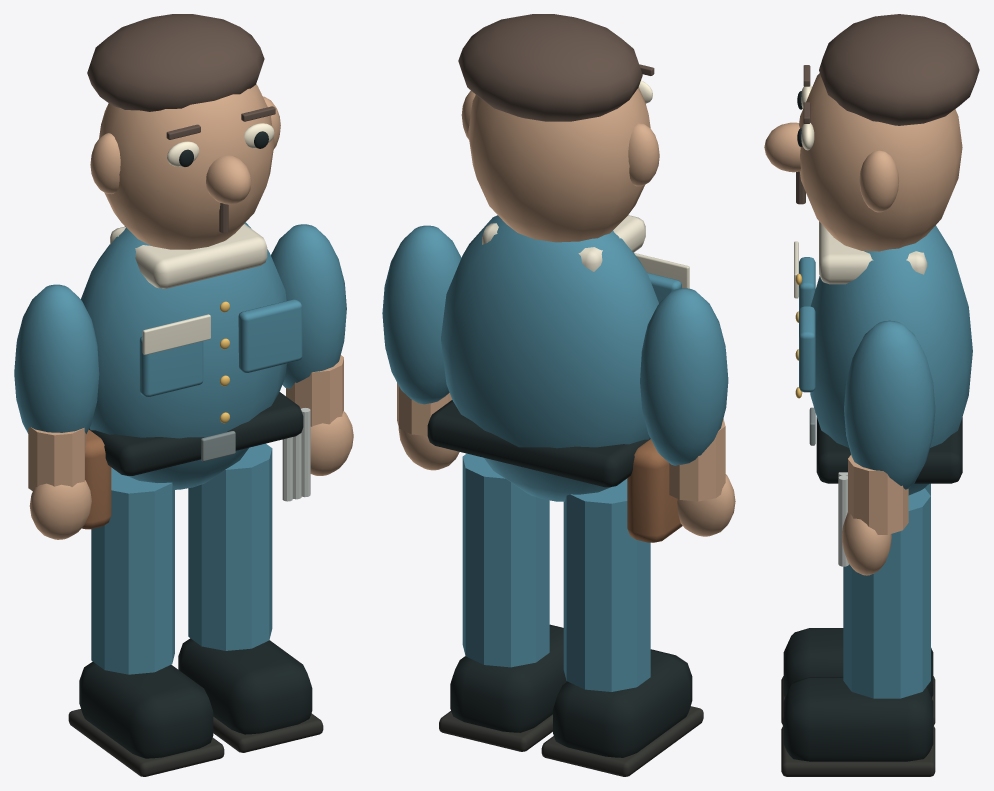
File: steve.glb
3 renders of one model, left to right at view 1: azimuth 30°, elevation 25°; view 2: azimuth 150°, elevation 25°; view 3: azimuth 270°, elevation 25°, orthographic. The views are drawn at different scales.
Parts seen in each view (by area): view 1: Jacket, Face, Trousers.001, Trousers, Hair cap, Sleeve, Shoe, Shoe.001, Sleeve.001, Belt, Collar, Shirt pocket.001 (+14 smaller); view 2: Jacket, Face, Trousers.001, Trousers, Hair cap, Sleeve, Sleeve.001, Shoe, Shoe.001, Belt, Tool pouch, Shoe sole (+8 smaller); view 3: Jacket, Face, Hair cap, Trousers.001, Sleeve.001, Shoe.001, Forearm.001, Shoe, Belt, Shoe sole.001, Collar, Hand.001 (+5 smaller).
Boxes of the visible parts, bbox=[...] form: Jacket: bbox=[81, 222, 286, 489]; Face: bbox=[99, 84, 274, 249]; Trousers.001: bbox=[188, 443, 272, 650]; Trousers: bbox=[91, 467, 174, 674]; Hair cap: bbox=[87, 14, 264, 111]; Sleeve: bbox=[14, 284, 99, 433]; Shoe: bbox=[79, 661, 213, 758]; Shoe.001: bbox=[178, 638, 312, 734]; Sleeve.001: bbox=[271, 224, 346, 388]; Belt: bbox=[89, 392, 303, 475]; Collar: bbox=[110, 224, 267, 288]; Shirt pocket.001: bbox=[238, 299, 302, 372]; Jacket: bbox=[441, 215, 658, 501]; Face: bbox=[468, 87, 650, 242]; Trousers.001: bbox=[462, 453, 549, 667]; Trousers: bbox=[563, 478, 650, 691]; Hair cap: bbox=[458, 14, 642, 121]; Sleeve: bbox=[640, 288, 728, 465]; Sleeve.001: bbox=[382, 225, 461, 404]; Shoe: bbox=[553, 649, 692, 757]; Shoe.001: bbox=[450, 624, 567, 732]; Belt: bbox=[427, 400, 650, 487]; Tool pouch: bbox=[627, 439, 682, 542]; Shoe sole: bbox=[541, 706, 703, 776]; Jacket: bbox=[810, 225, 972, 495]; Face: bbox=[799, 73, 962, 251]; Hair cap: bbox=[819, 14, 979, 125]; Trousers.001: bbox=[843, 488, 930, 698]; Sleeve.001: bbox=[844, 320, 935, 489]; Shoe.001: bbox=[783, 677, 933, 761]; Forearm.001: bbox=[848, 455, 908, 534]; Shoe: bbox=[783, 628, 933, 697]; Belt: bbox=[816, 417, 962, 483]; Shoe sole.001: bbox=[781, 725, 935, 776]; Collar: bbox=[819, 221, 927, 284]; Hand.001: bbox=[842, 512, 891, 575].
Bounding box in the file's own units: 0.91 × 1.87 × 0.517.
